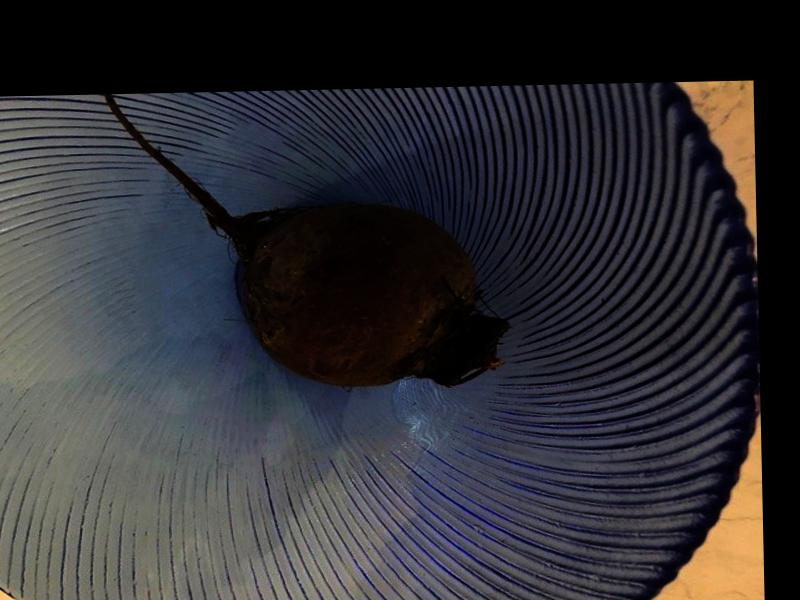Beet: (106, 85, 509, 391)
